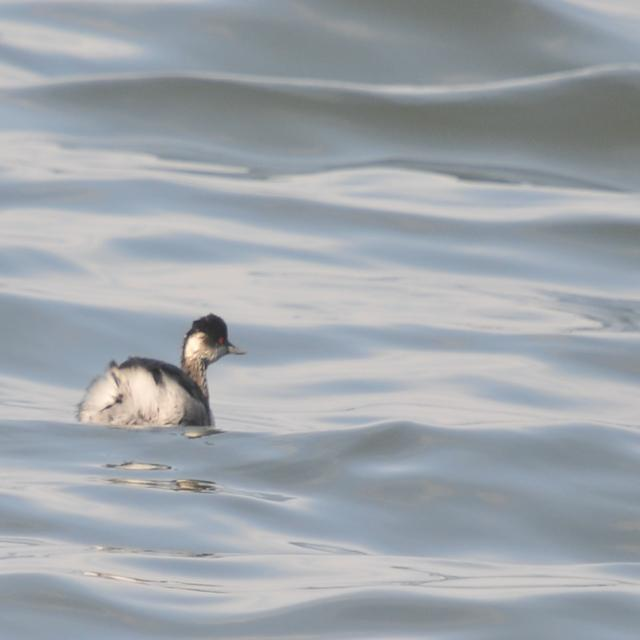bird: (82, 316, 248, 428)
